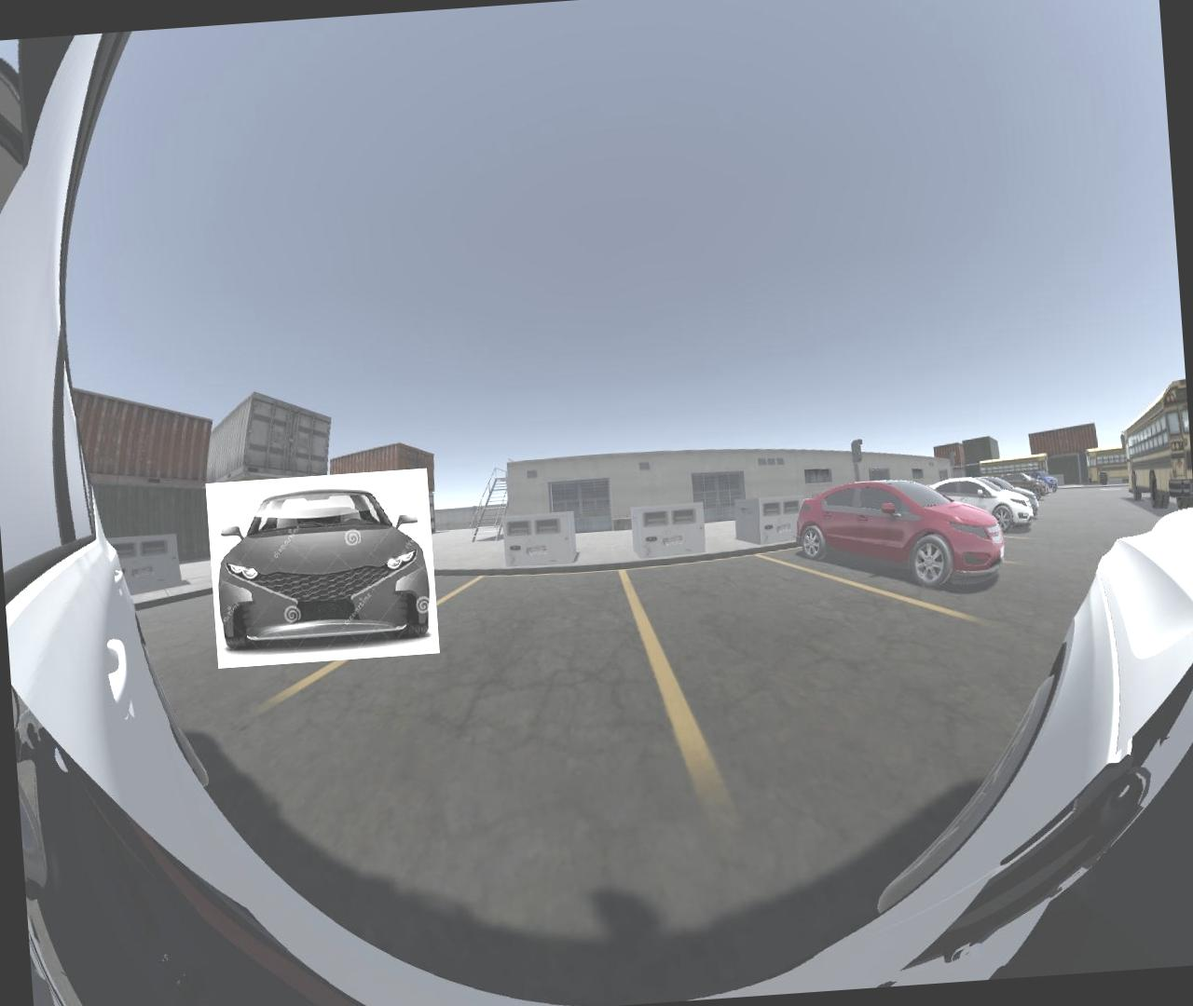Car: (203, 467, 443, 669)
